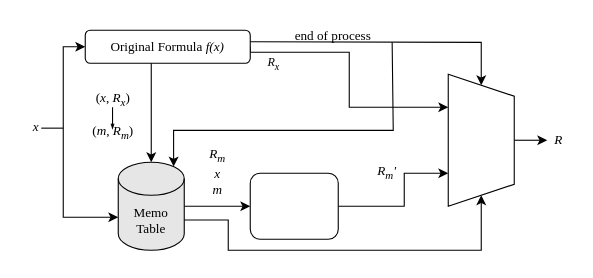
Some shapes in this 593 by 278 pixel diagram are drawn without their labels. Here are the shapes that lost their labels. From the top down, the centre of each, then its label:
the point at 480,139: MUX
the point at 293,205: Adjust Process
